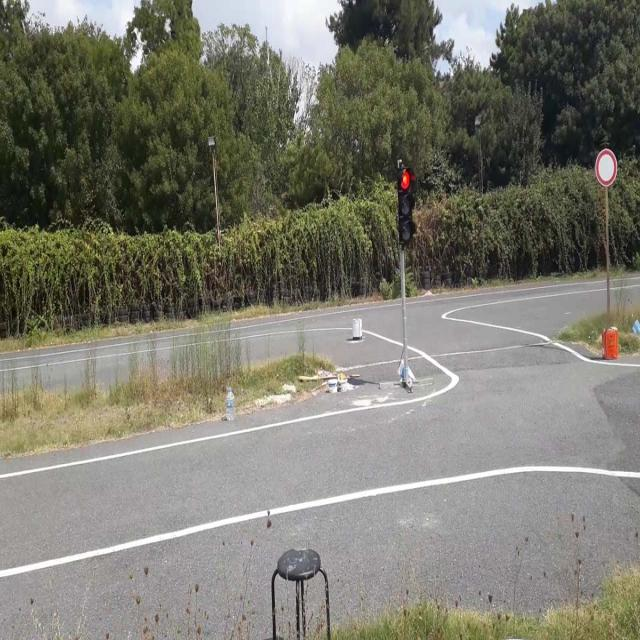kirmizi: (398, 166, 414, 241)
